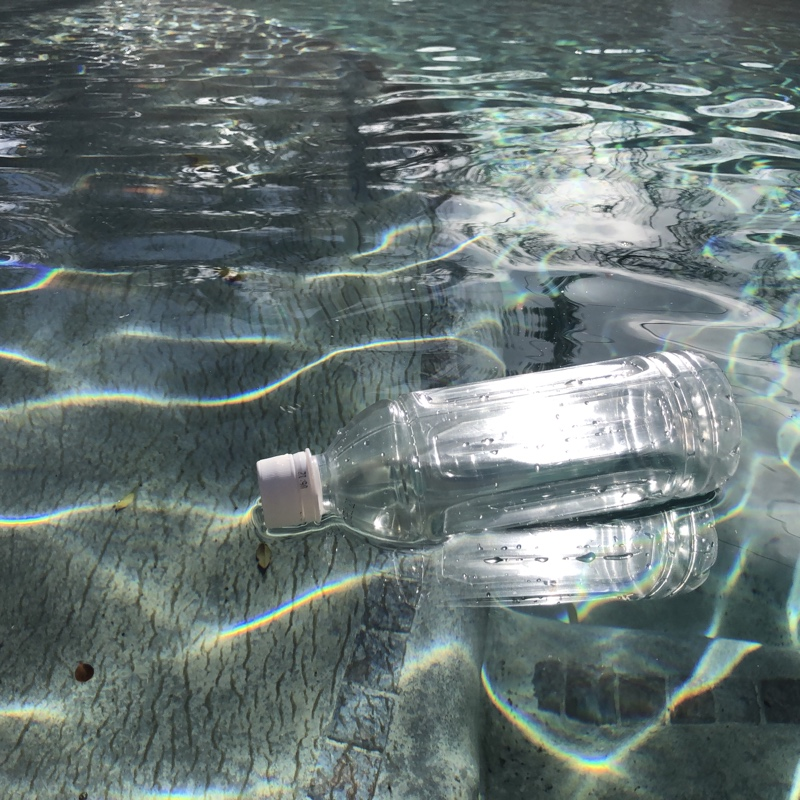Plastic Bottle: (253, 345, 749, 550)
